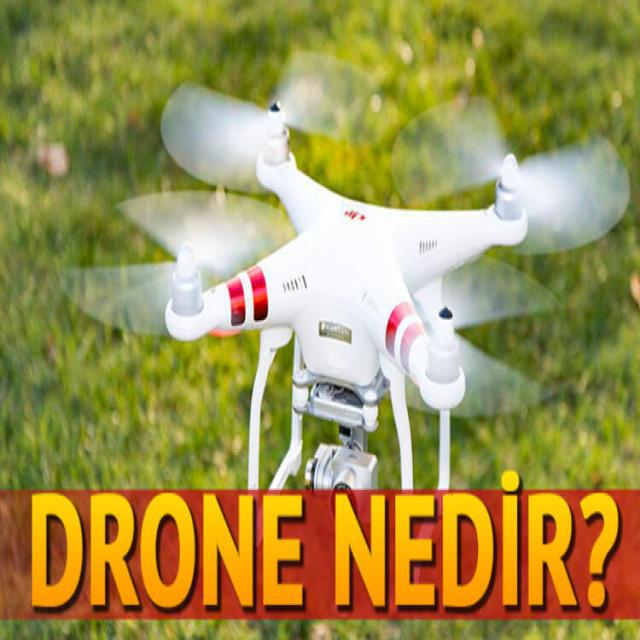drone: (113, 68, 593, 472)
